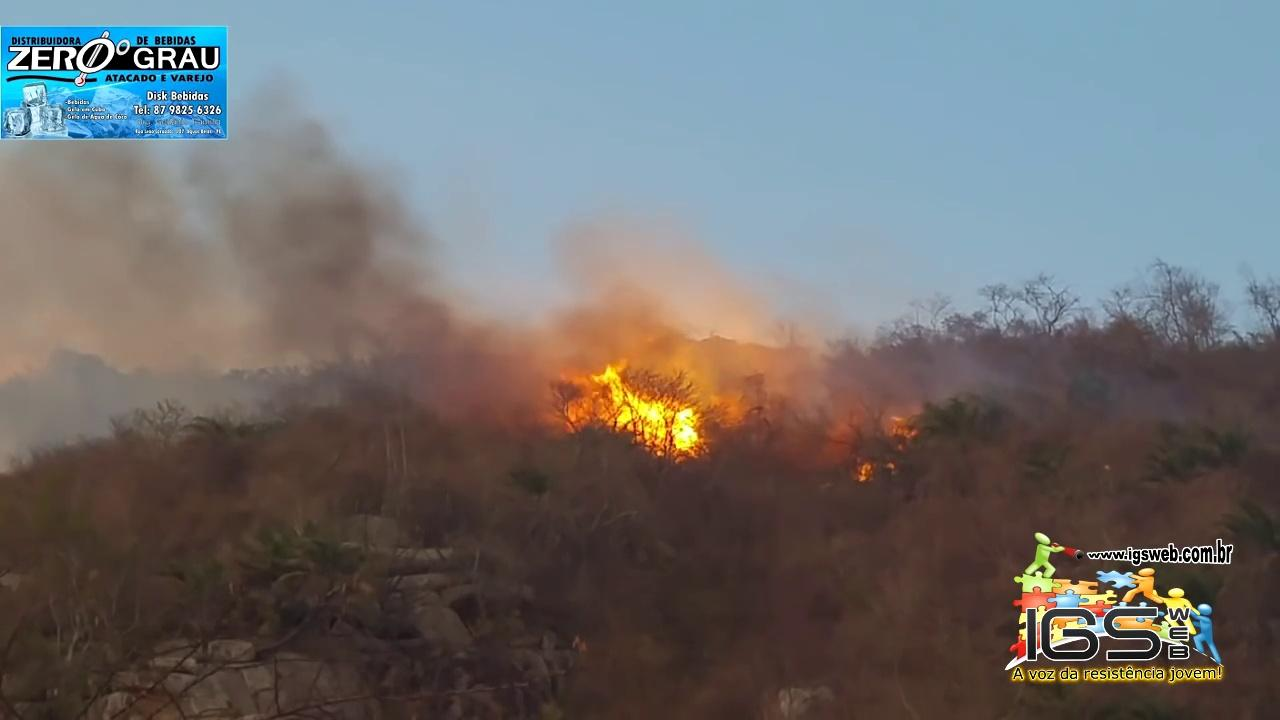fire: (561, 373, 708, 455), (885, 416, 917, 440), (854, 453, 878, 482)
